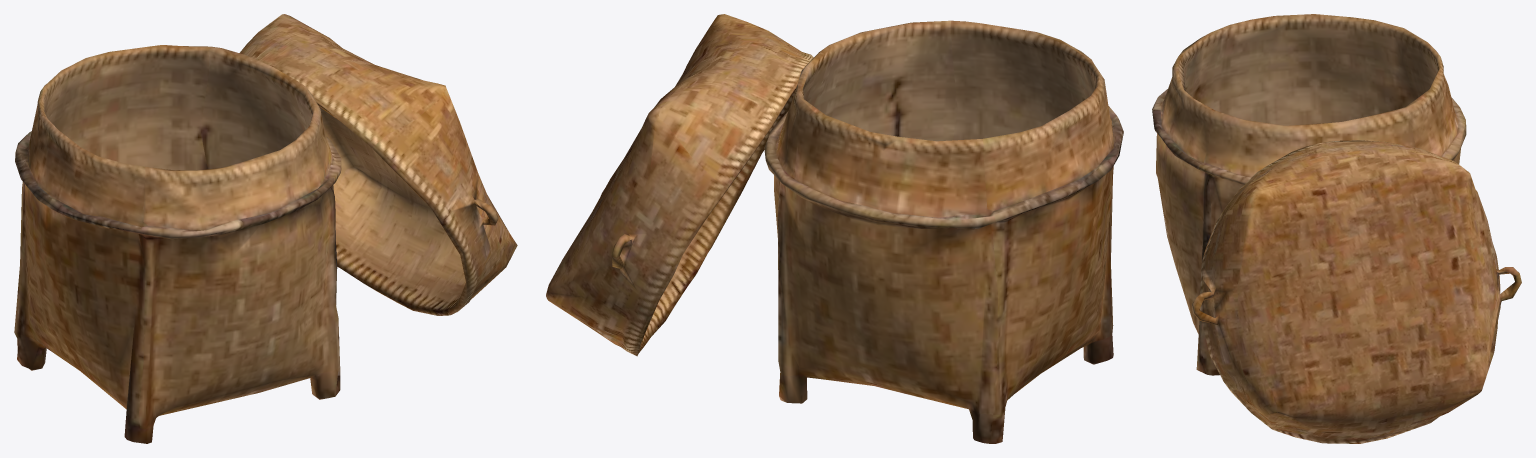
File: wicker_basket_02.glb
The picture shows the model from 3 angles, left to right: view 1: azimuth 30°, elevation 25°; view 2: azimuth 150°, elevation 25°; view 3: azimuth 270°, elevation 25°; orthographic projection. The views are drawn at different scales.
Visible parts, largest first — view 1: wicker_basket_02_base, wicker_basket_02_lid; view 2: wicker_basket_02_base, wicker_basket_02_lid; view 3: wicker_basket_02_lid, wicker_basket_02_base.
Part boxes in pixels (x1,y1,x2,y2): wicker_basket_02_base: (14,45,341,443); wicker_basket_02_lid: (239,14,517,315); wicker_basket_02_base: (764,20,1123,443); wicker_basket_02_lid: (546,14,813,356); wicker_basket_02_lid: (1191,140,1521,443); wicker_basket_02_base: (1152,14,1466,375).
Bounding box in the file's own units: 0.3467 × 0.2004 × 0.2541.
Materials: 1 (1 with a texture image).
